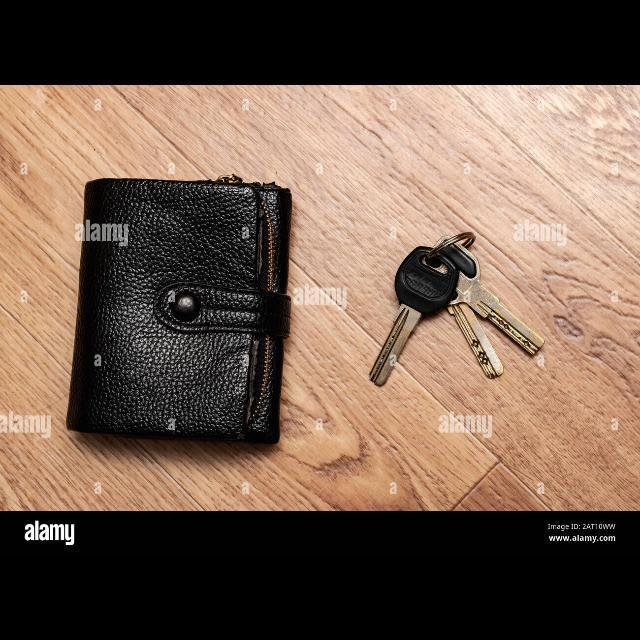wallet: (54, 154, 322, 470)
